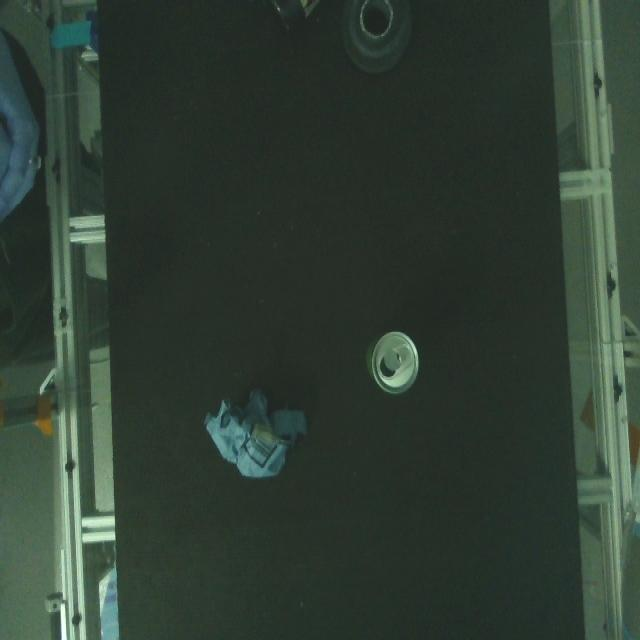non-paper: (328, 0, 424, 91), (354, 332, 430, 402)
paper: (199, 378, 311, 488)
